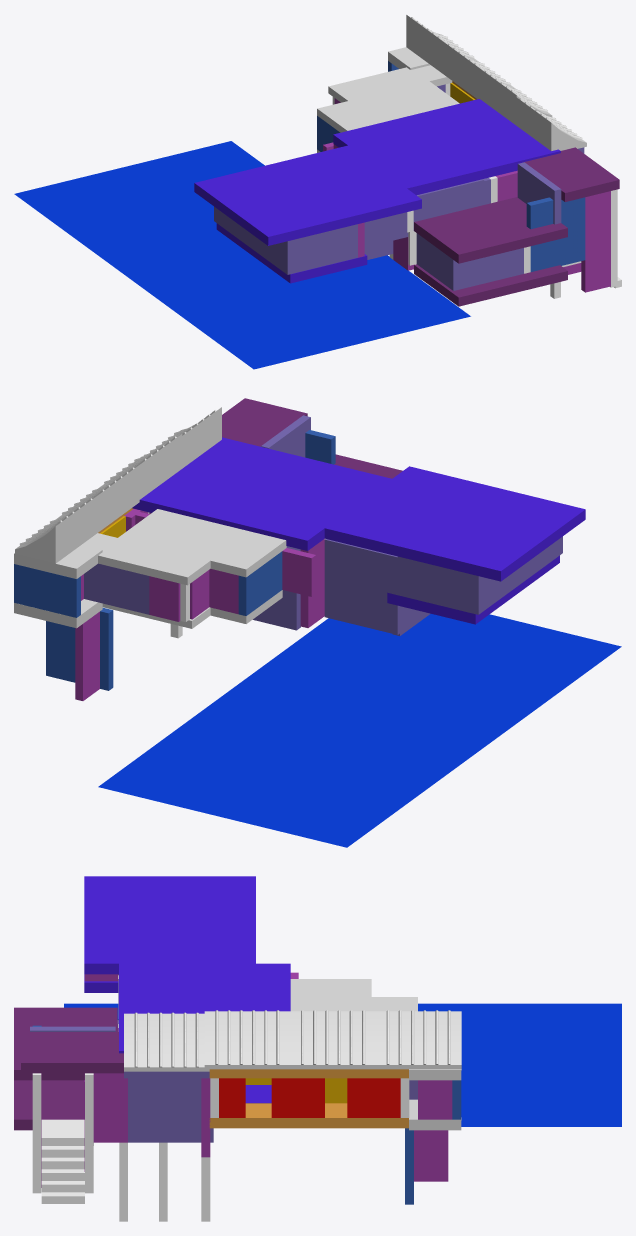
Rendered from Blocky_NorthRooms.fbx.
3 renders of one model, top to bottom at view 1: azimuth 30°, elevation 25°; view 2: azimuth 150°, elevation 25°; view 3: azimuth 270°, elevation 25°, orthographic. The views are drawn at different scales.
Visible parts, largest first — view 1: Plane.020, Plane.021, Essai_Assemblage_029.004, Essai_Assemblage_029.001, Essai_Assemblage_029.003, Essai_Assemblage_029.002, MUR_3.026, Cube.771, Cube.733, Cube.770, Essai_Assemblage_030.001, MUR_3.025 (+21 smaller); view 2: Plane.021, Plane.020, Essai_Assemblage_029.004, Essai_Assemblage_029.003, Essai_Assemblage_029.001, Essai_Assemblage_029.002, MUR_3.026, MUR_3.025, Essai_Assemblage_033.005, Essai_Assemblage_033.006, Essai_Assemblage_033.004, Module_026.014 (+26 smaller); view 3: Plane.021, Essai_Assemblage_029.003, Essai_Assemblage_029.001, Essai_Assemblage_029.004, Module_026.009, Module_026.010, Module_026.014, Module_026.008, Cube.733, Cube.716, Essai_Assemblage_032.004, Module_020.001 (+24 smaller).
Part boxes in pixels (bbox=[...]): Plane.020: bbox=[134, 253, 470, 369]; Plane.021: bbox=[14, 141, 264, 281]; Essai_Assemblage_029.004: bbox=[194, 164, 344, 245]; Essai_Assemblage_029.001: bbox=[333, 116, 483, 195]; Essai_Assemblage_029.003: bbox=[271, 145, 421, 227]; Essai_Assemblage_029.002: bbox=[410, 99, 560, 178]; MUR_3.026: bbox=[317, 81, 459, 132]; Cube.771: bbox=[414, 208, 513, 263]; Cube.733: bbox=[523, 147, 619, 201]; Cube.770: bbox=[469, 197, 567, 250]; Essai_Assemblage_030.001: bbox=[294, 224, 357, 273]; MUR_3.025: bbox=[328, 65, 452, 102]; Plane.021: bbox=[98, 686, 483, 847]; Plane.020: bbox=[235, 614, 621, 746]; Essai_Assemblage_029.004: bbox=[413, 488, 585, 581]; Essai_Assemblage_029.003: bbox=[324, 466, 496, 559]; Essai_Assemblage_029.001: bbox=[219, 457, 391, 550]; Essai_Assemblage_029.002: bbox=[132, 437, 303, 523]; MUR_3.026: bbox=[118, 509, 286, 577]; MUR_3.025: bbox=[82, 533, 210, 585]; Essai_Assemblage_033.005: bbox=[324, 539, 397, 594]; Essai_Assemblage_033.006: bbox=[324, 578, 402, 634]; Essai_Assemblage_033.004: bbox=[397, 556, 470, 612]; Module_026.014: bbox=[15, 495, 97, 563]; Plane.021: bbox=[418, 1003, 621, 1126]; Essai_Assemblage_029.003: bbox=[84, 920, 255, 974]; Essai_Assemblage_029.001: bbox=[119, 963, 290, 1007]; Essai_Assemblage_029.004: bbox=[84, 876, 255, 919]; Module_026.009: bbox=[204, 1010, 290, 1069]; Module_026.010: bbox=[290, 1010, 375, 1069]; Module_026.014: bbox=[376, 1010, 461, 1069]; Module_026.008: bbox=[124, 1012, 209, 1071]; Cube.733: bbox=[21, 1032, 123, 1073]; Cube.716: bbox=[41, 1119, 93, 1203]; Essai_Assemblage_032.004: bbox=[128, 1103, 213, 1142]; Module_020.001: bbox=[209, 1103, 408, 1128].
Bounding box in the file's own units: 6371 × 3017 × 8021.
